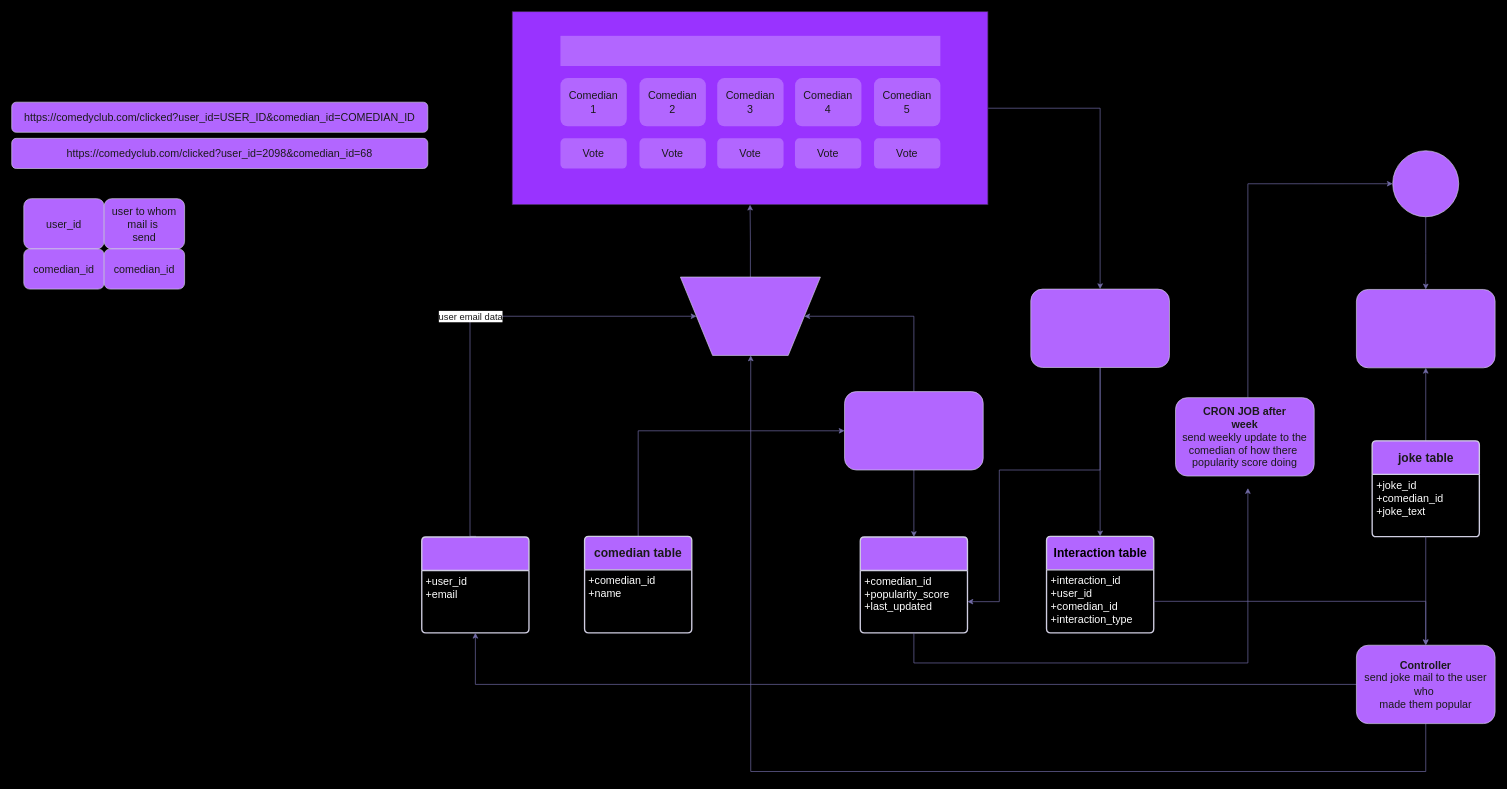
This 1507x789 diagram has some shape labels left out. Here are the shapes that lost their labels. From the top down, the box of each, then its label:
(560, 36, 940, 66): User Mail Box
(1392, 150, 1459, 217): Comedian
(680, 276, 820, 355): AWS SES
(1030, 288, 1169, 367): Controller getting value of comedian clicked and updating popularity score
(1356, 289, 1495, 368): Controller getting comedian joke
(844, 391, 983, 470): Controller to generate top 20 and 5 random comedian
(421, 536, 529, 633): user table
(859, 536, 968, 633): popularity table
